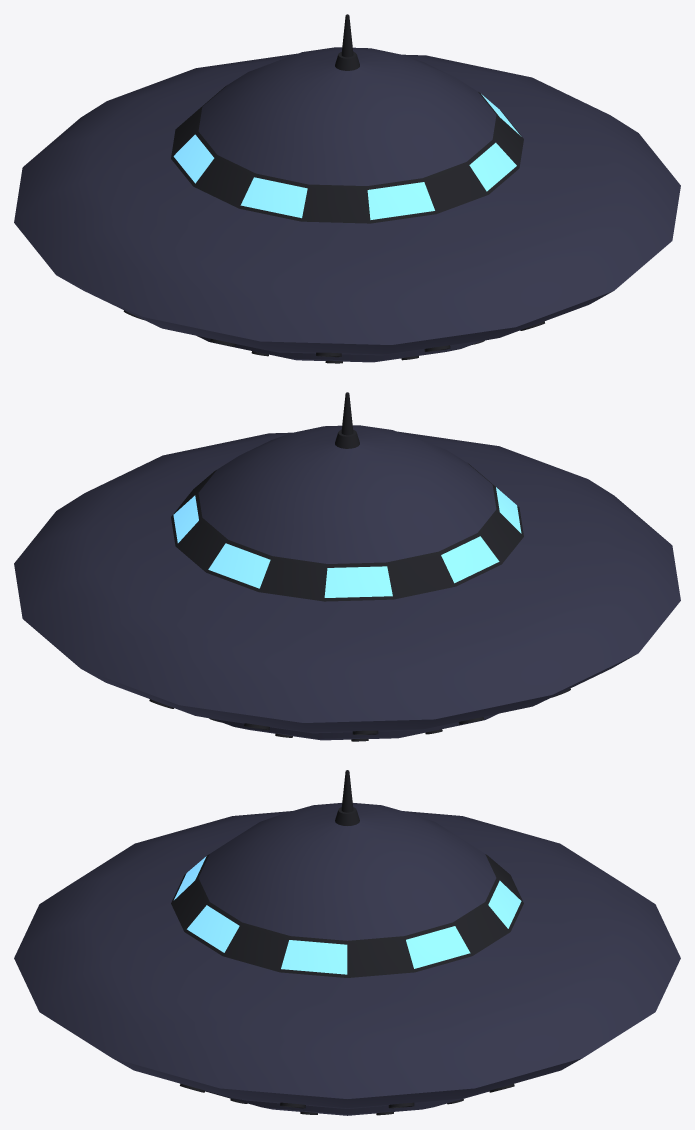
File: flexunit-ufo.glb
3 views of the same model, one above another, from view 1: azimuth 30°, elevation 25°; view 2: azimuth 150°, elevation 25°; view 3: azimuth 270°, elevation 25° (orthographic).
Visible parts, largest first — view 1: UFO, Lights; view 2: UFO, Lights; view 3: UFO, Lights.
Part boxes in pixels (x1,y1,x2,y2): UFO: (14, 14, 680, 362); Lights: (123, 310, 544, 363); UFO: (14, 392, 680, 740); Lights: (149, 688, 570, 741); UFO: (14, 770, 680, 1115); Lights: (180, 1083, 514, 1115).
Size of the model in its own units: 4.61 by 2.03 by 4.61.
